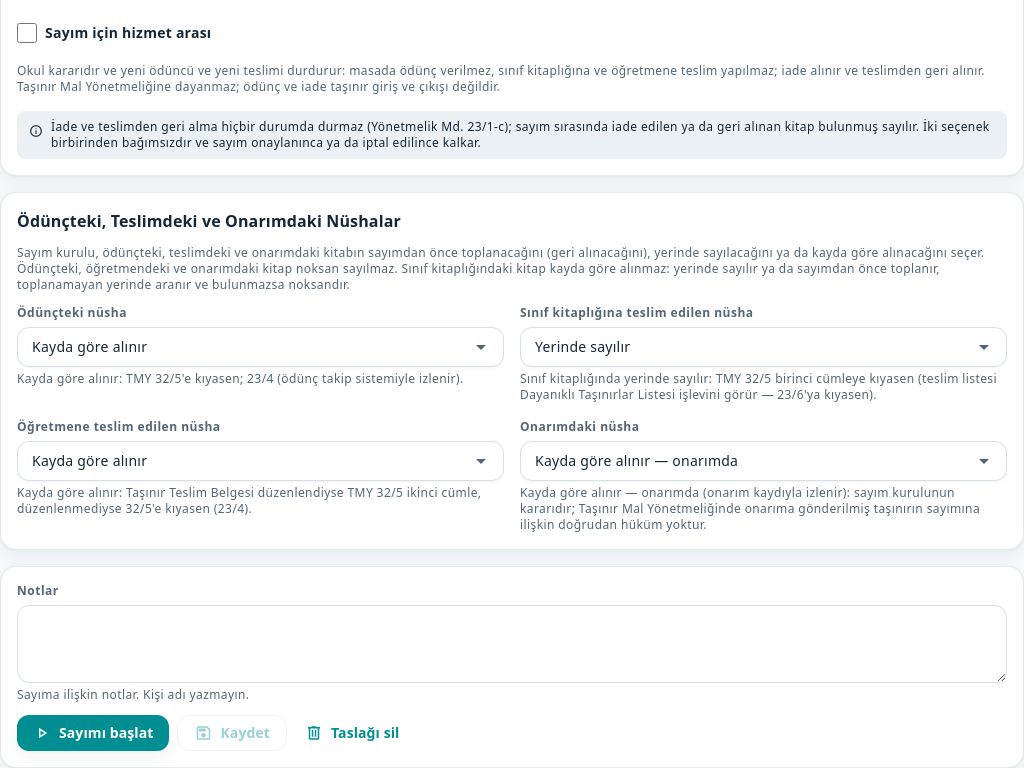
Scenario: Yıl sonu sayımı işareti › başlatma onayı işaretsiz sayımın ara sayım olduğunu söyler
The width and height of the screenshot is (1024, 768).
(page scrolled)
Step 1. Click the button "Sayımı başlat" → (93, 733), box [17,715,170,751]
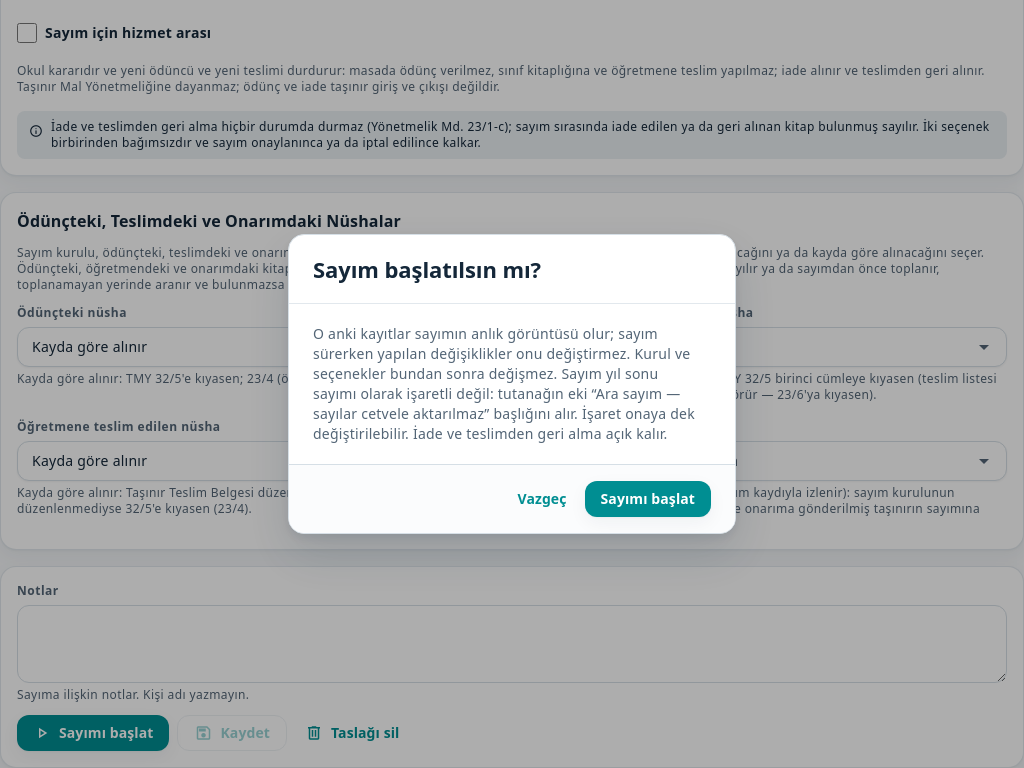
Expected: the dialog shows "Sayım yıl sonu sayımı olarak işaretli değil", [313,324,695,443]
Expected: the dialog shows "Ara sayım — sayılar cetvele aktarılmaz", [313,324,695,443]
Expected: the dialog shows "İşaret onaya dek değiştirilebilir.", [313,324,695,443]
